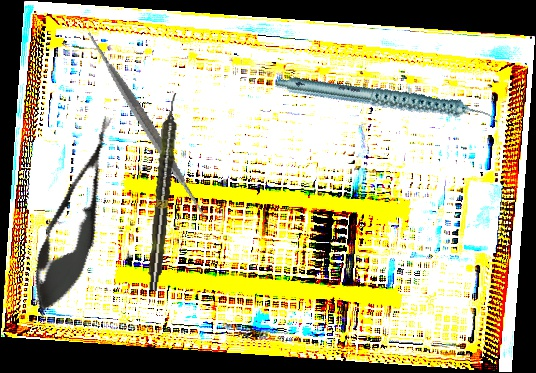Handpiece: (274, 33, 501, 170), (144, 91, 183, 292)
Micro Scissor: (18, 107, 134, 326)
Spatula Surgical: (41, 21, 252, 229)
